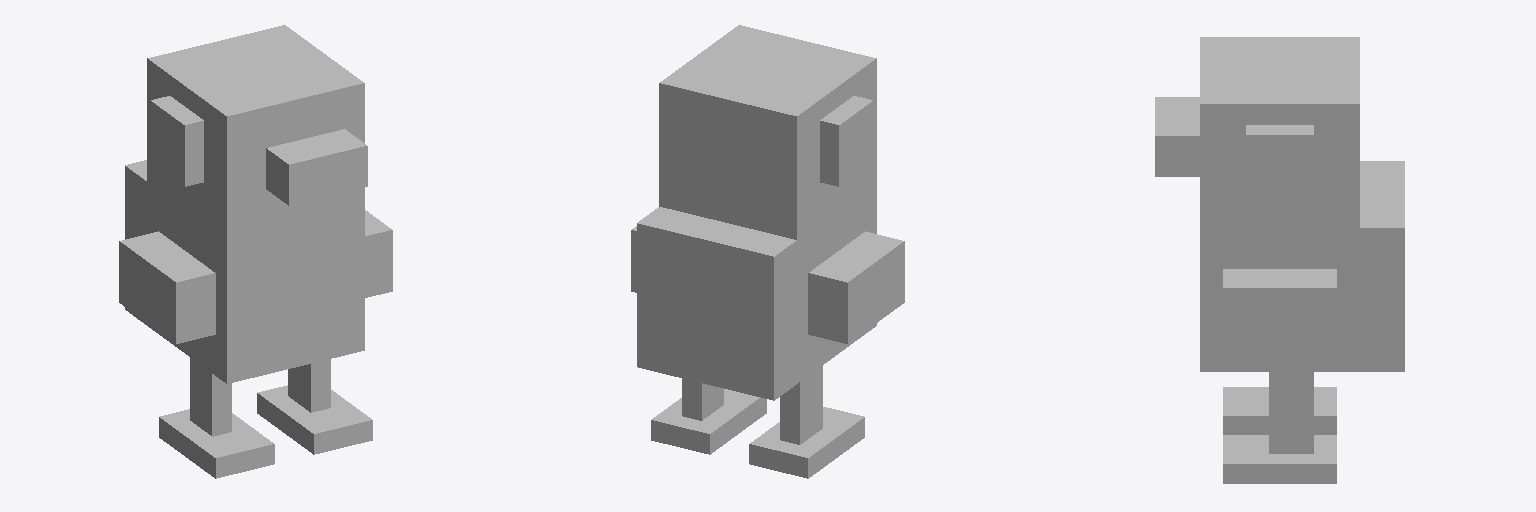
Rendered from duck.obj.
The picture shows the model from 3 angles: view 1: azimuth 30°, elevation 25°; view 2: azimuth 150°, elevation 25°; view 3: azimuth 270°, elevation 25°; orthographic projection.
Parts seen in each view (by area): view 1: duck; view 2: duck; view 3: duck.
Boxes of the visible parts, box(x1,y1,x2,y2) form: duck: box(119, 25, 392, 478); duck: box(631, 25, 904, 478); duck: box(1155, 37, 1404, 483).
Size of the model in its own units: 11 by 18 by 11.